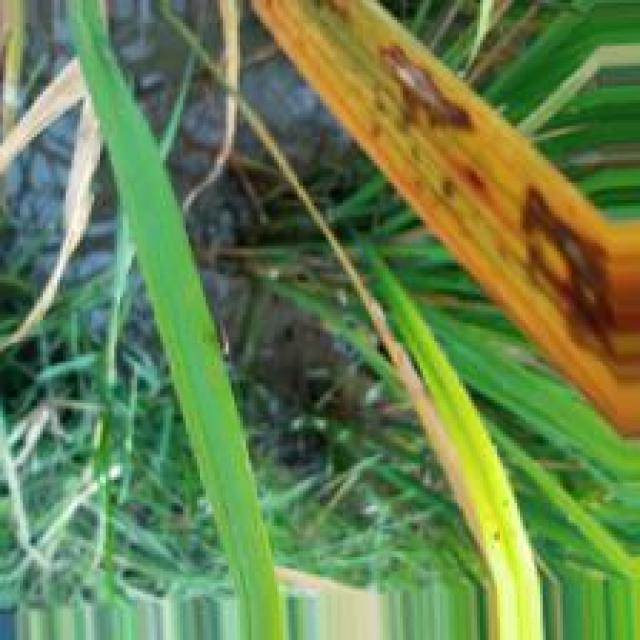Narrow_Brown_Leaf_Spot: (245, 0, 639, 442)
